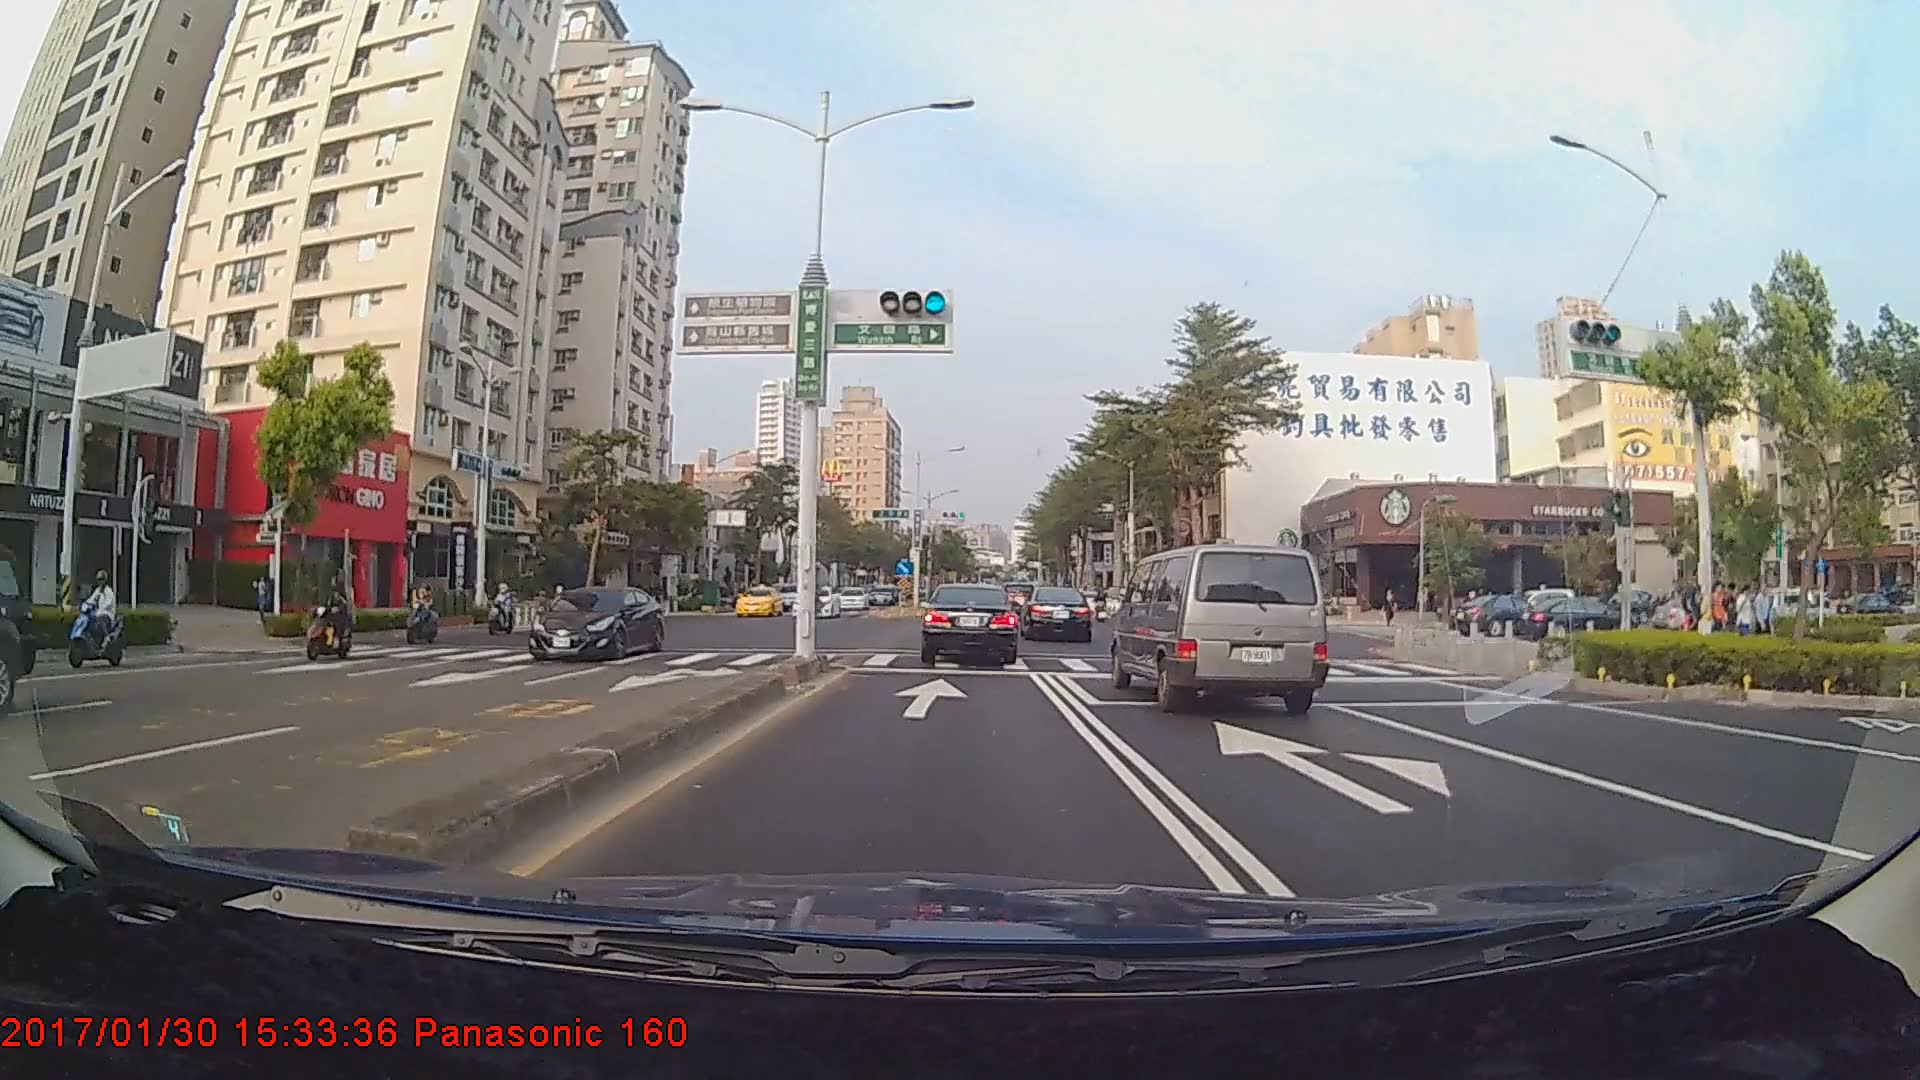pedestrian: (1683, 571, 1707, 649), (1752, 582, 1774, 651), (1737, 582, 1757, 649), (1709, 583, 1729, 646)
rider: (295, 573, 363, 666), (72, 572, 136, 666), (403, 578, 446, 649), (483, 576, 521, 634)
vehicle: (1109, 541, 1329, 713), (531, 586, 665, 656), (919, 583, 1020, 667), (1019, 587, 1092, 644), (1452, 591, 1535, 637), (732, 583, 784, 617), (791, 583, 840, 616), (835, 585, 868, 610)
